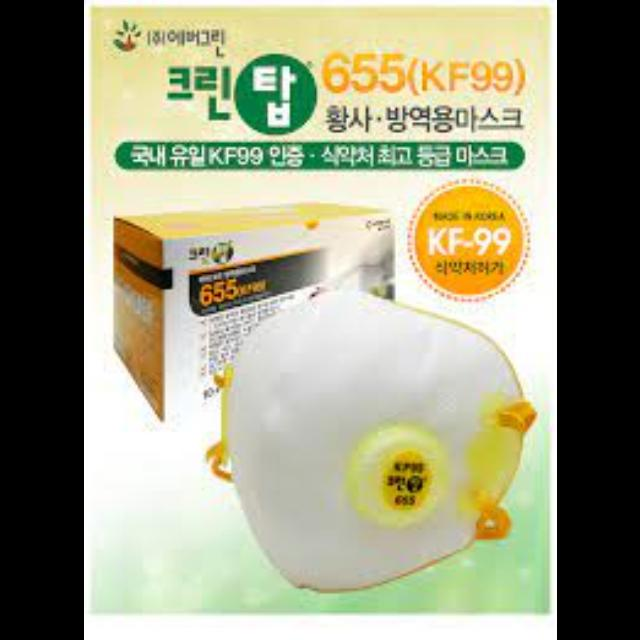masks: (204, 280, 548, 602)
